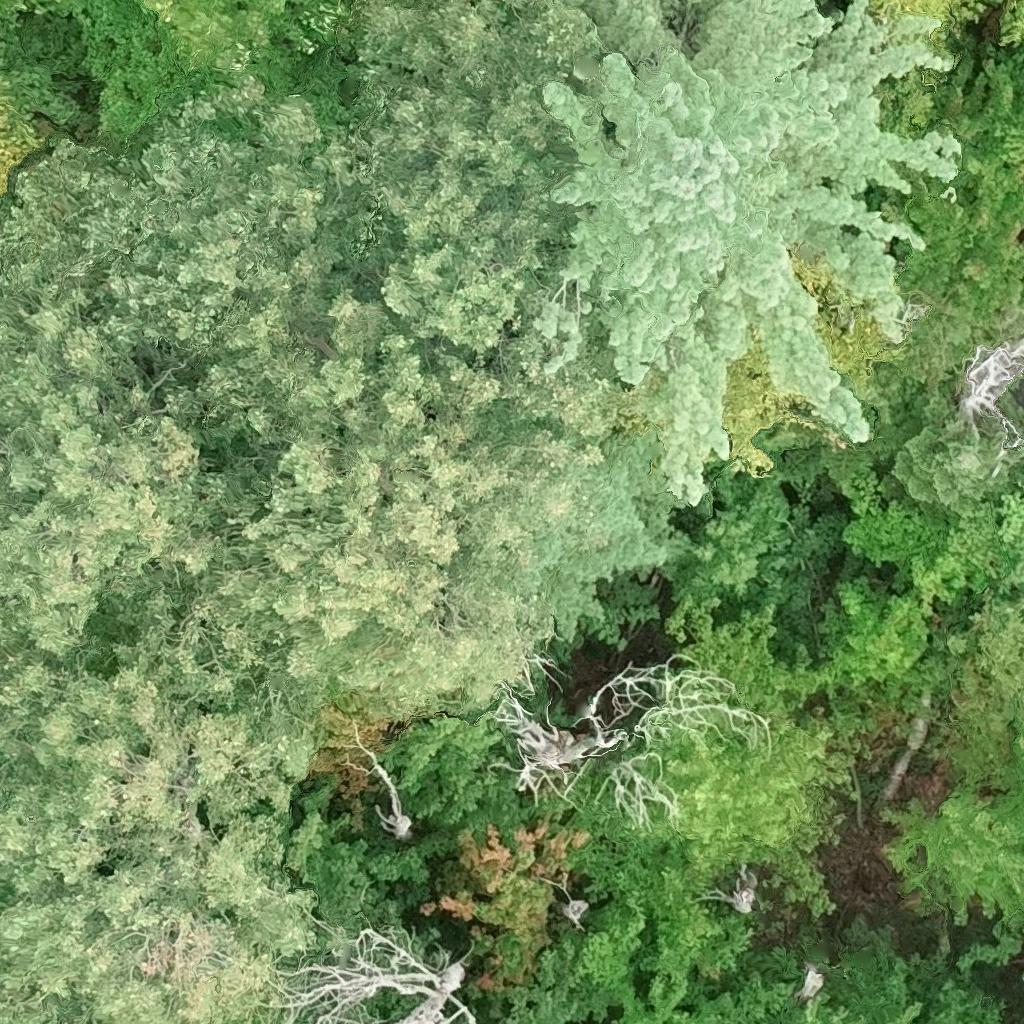crown: (0, 81, 617, 719), (520, 0, 957, 504), (0, 661, 317, 1023), (0, 279, 234, 676), (322, 0, 580, 351), (490, 658, 759, 822), (494, 415, 683, 643), (878, 694, 1023, 970), (52, 0, 337, 132), (421, 817, 589, 1016), (639, 718, 833, 890), (860, 149, 1023, 327), (575, 868, 750, 1023), (672, 480, 794, 642), (724, 331, 857, 479), (934, 592, 1023, 803), (277, 930, 477, 1023), (818, 575, 926, 720), (791, 248, 906, 382), (913, 486, 1023, 619), (889, 425, 1019, 509), (0, 29, 76, 127), (954, 335, 1023, 442), (0, 89, 40, 201), (869, 0, 982, 30), (929, 981, 978, 1023), (784, 992, 849, 1023), (0, 0, 52, 29), (1001, 0, 1023, 48), (884, 999, 922, 1023), (848, 1014, 873, 1023), (0, 198, 11, 217), (967, 1021, 976, 1023)
